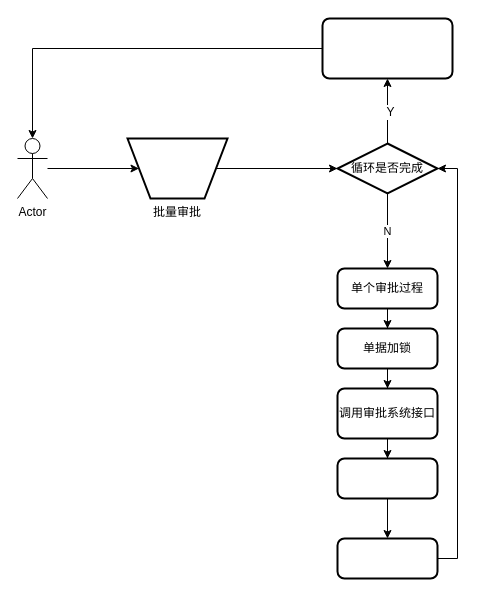
Some shapes in this 483 by 596 pixel diagram are drawn without their labels. Each missing label, with the centre of its shape:
"单据状态回写" belongs at [387,478].
"拼接 审批结果 给用户" belongs at [387,48].
"记录审批结果" belongs at [387,558].
